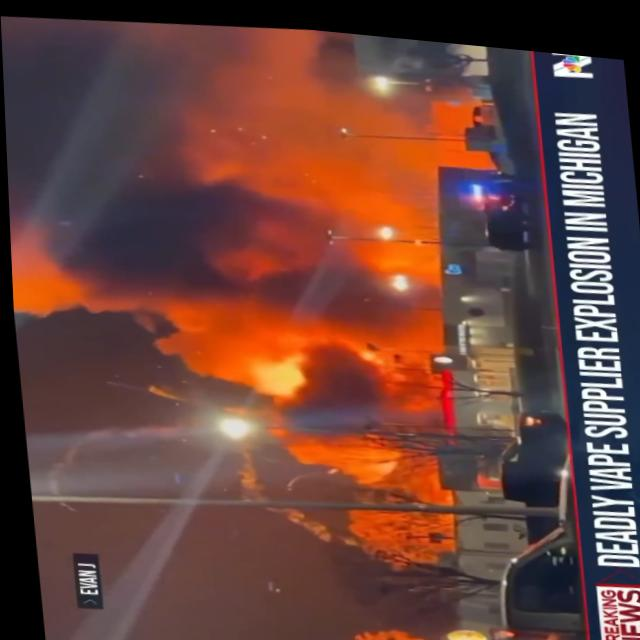Fire: (68, 46, 488, 527)
